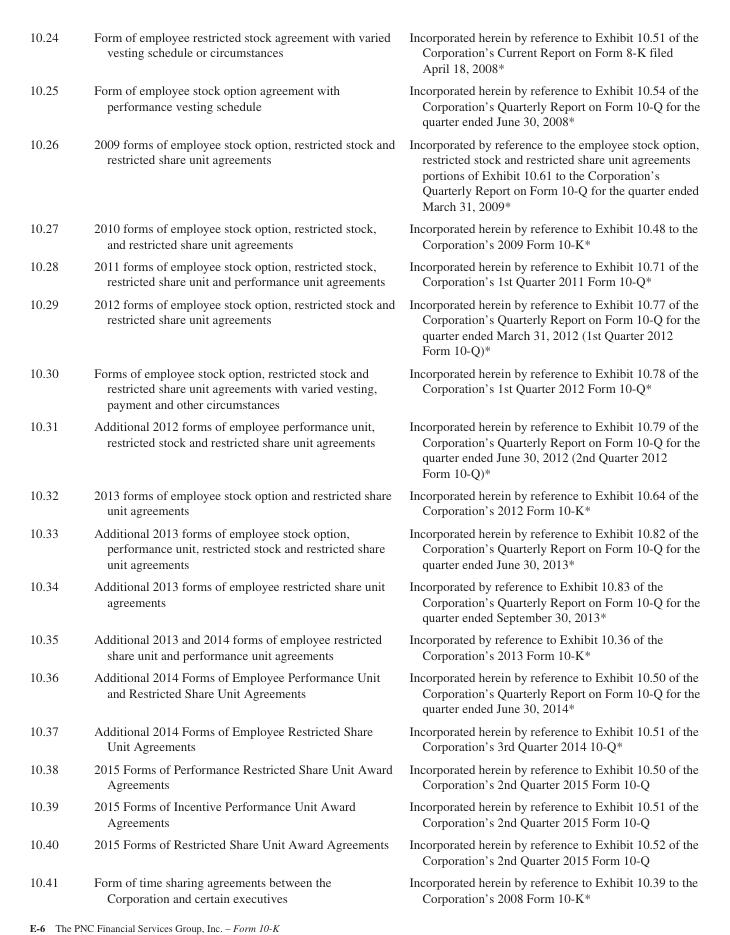table: (28, 29, 699, 904)
table column: (75, 29, 401, 904), (401, 29, 699, 904), (28, 29, 75, 904)
table column header: (28, 29, 699, 78)
table row: (28, 132, 699, 216), (28, 292, 699, 361), (28, 414, 699, 483), (28, 78, 699, 132), (28, 665, 699, 719), (28, 361, 699, 414), (28, 521, 699, 574), (28, 574, 699, 627), (28, 29, 699, 78), (28, 216, 699, 254), (28, 254, 699, 292), (28, 483, 699, 521), (28, 627, 699, 665), (28, 756, 699, 794), (28, 794, 699, 832), (28, 832, 699, 870), (28, 719, 699, 756), (28, 870, 699, 904)
